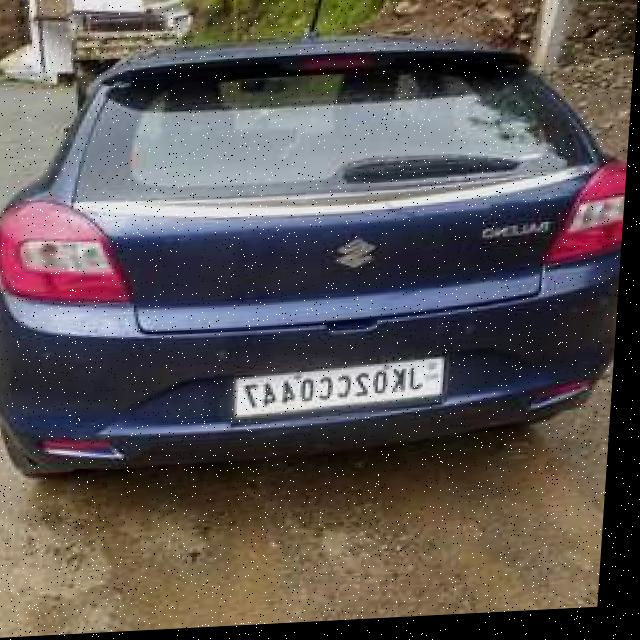plate: (235, 357, 458, 425)
